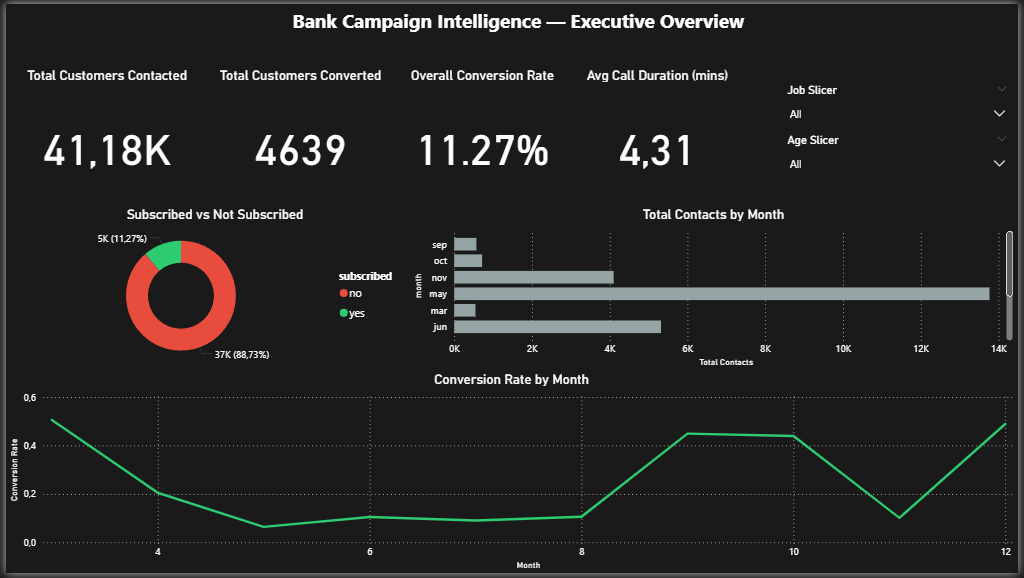

This screenshot's page, from the dashboard's own definition file:
{"tool":"powerbi","page":{"name":"Overview","canvas":[1280,720],"ordinal":0},"visuals":[{"type":"textbox","box":[16,0,1264,80],"z":0},{"type":"card","title":"Total Customers Contacted","fields":{"Values":["bank_telemarketing_cleaned.Total Contacts"]},"box":[0,80,256,176],"z":1000},{"type":"card","title":"Total Customers Converted","fields":{"Values":["bank_telemarketing_cleaned.Total Converted"]},"box":[261.3,80,224,176],"z":2000},{"type":"card","title":"Overall Conversion Rate","fields":{"Values":["bank_telemarketing_cleaned.Conversion Rate %"]},"box":[490.7,80,224,176],"z":3000},{"type":"card","title":"Avg Call Duration (mins)","fields":{"Values":["bank_telemarketing_cleaned.Avg Call Duration (min)"]},"box":[720,80,208,176],"z":4000},{"type":"donutChart","title":"Subscribed vs Not Subscribed ","fields":{"Category":["bank_telemarketing_cleaned.subscribed"],"Y":["bank_telemarketing_cleaned.Total Contacts"]},"box":[16,256,496,208],"z":5000},{"type":"lineChart","title":"Conversion Rate by Month","fields":{"Category":["bank_telemarketing_cleaned.month_num"],"Y":["bank_telemarketing_cleaned.Conversion Rate"]},"box":[0,464,1280,256],"z":6000},{"type":"clusteredBarChart","title":"Total Contacts by Month","fields":{"Category":["bank_telemarketing_cleaned.month"],"Y":["bank_telemarketing_cleaned.Total Contacts"]},"box":[512,256,768,208],"z":7000},{"type":"slicer","fields":{"Values":["bank_telemarketing_cleaned.job"]},"box":[976,96,304,64],"z":8000},{"type":"slicer","fields":{"Values":["bank_telemarketing_cleaned.age_group"]},"box":[976,160,304,64],"z":9000}]}

Visuals, with their boxes in screenshot pixels (x1, y1, x2, y2), scaled from the page's 1280x720 canvas onto the 1024x578 screenshot:
textbox: <region>13, 0, 1023, 64</region>
"Total Customers Contacted" card: <region>0, 64, 205, 206</region>
"Total Customers Converted" card: <region>209, 64, 388, 206</region>
"Overall Conversion Rate" card: <region>393, 64, 572, 206</region>
"Avg Call Duration (mins)" card: <region>576, 64, 742, 206</region>
"Subscribed vs Not Subscribed " donutChart: <region>13, 206, 410, 372</region>
"Conversion Rate by Month" lineChart: <region>0, 372, 1023, 577</region>
"Total Contacts by Month" clusteredBarChart: <region>410, 206, 1023, 372</region>
slicer - bank_telemarketing_cleaned.job: <region>781, 77, 1023, 128</region>
slicer - bank_telemarketing_cleaned.age_group: <region>781, 128, 1023, 180</region>
